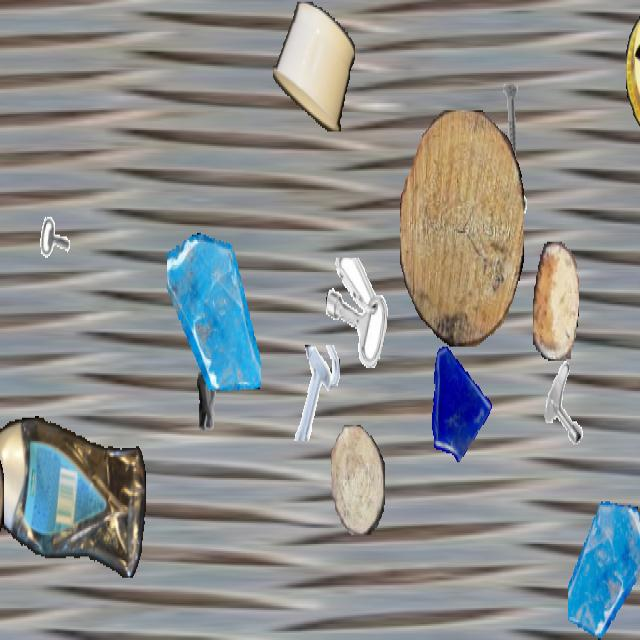glass: (167, 231, 261, 398), (568, 500, 640, 638), (422, 336, 492, 460)
metal: (475, 176, 537, 286), (326, 258, 388, 368), (288, 345, 342, 441), (538, 356, 592, 452), (182, 359, 232, 448), (487, 80, 535, 165), (40, 192, 80, 263), (636, 279, 640, 357)
plastic: (0, 414, 145, 585), (273, 2, 355, 130), (626, 2, 640, 140)
wood: (400, 110, 524, 345), (331, 425, 385, 535), (533, 242, 579, 359), (0, 434, 4, 565)
